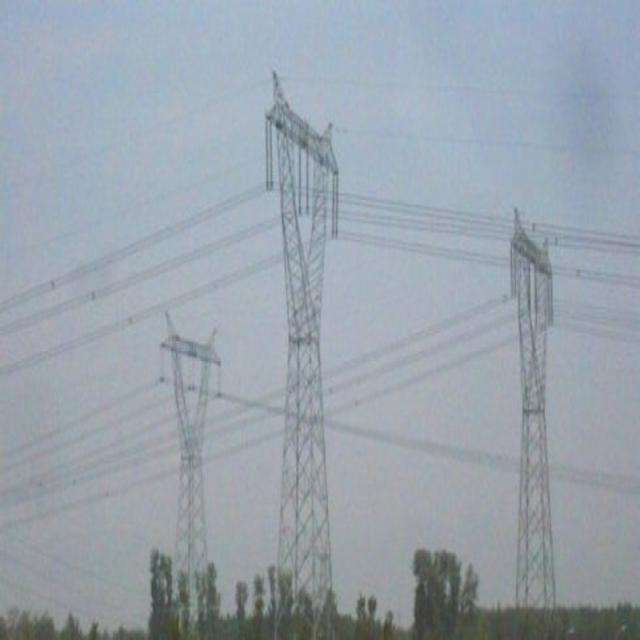non-critical vegetation: (251, 65, 343, 616), (498, 200, 562, 606), (156, 312, 218, 594)
